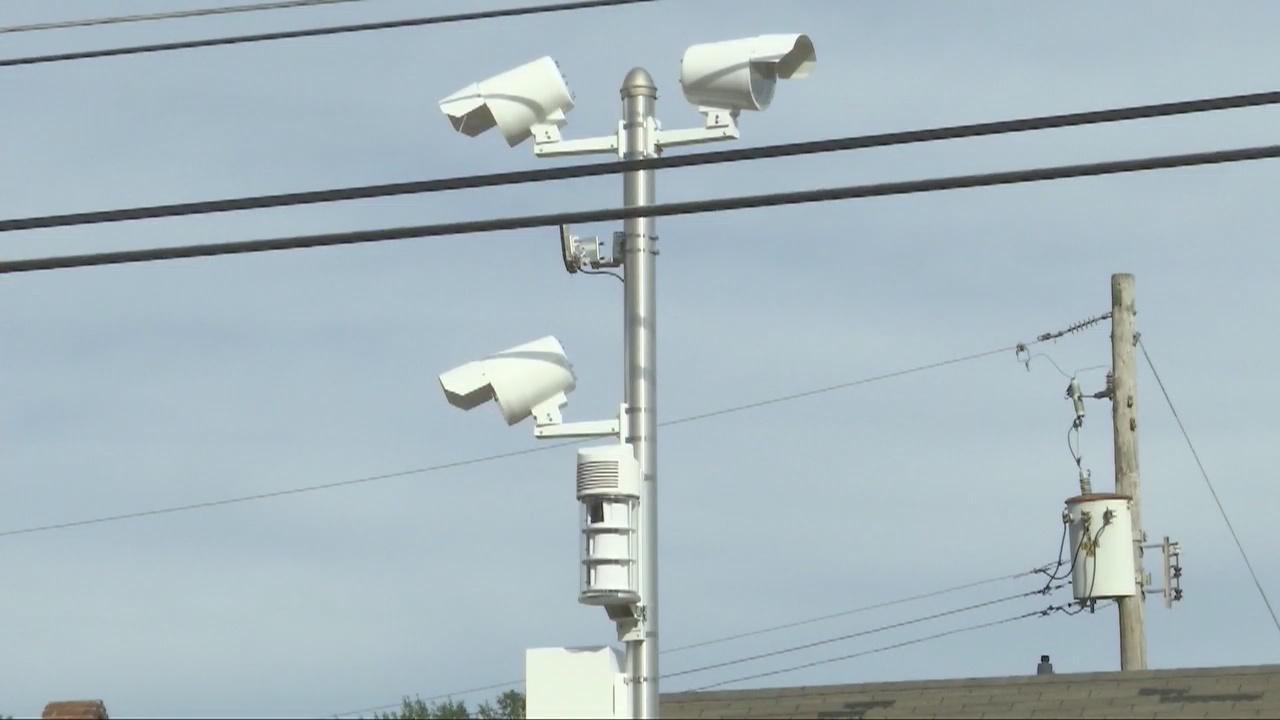Monitor: (431, 311, 571, 439), (437, 54, 575, 148), (678, 31, 816, 113)
